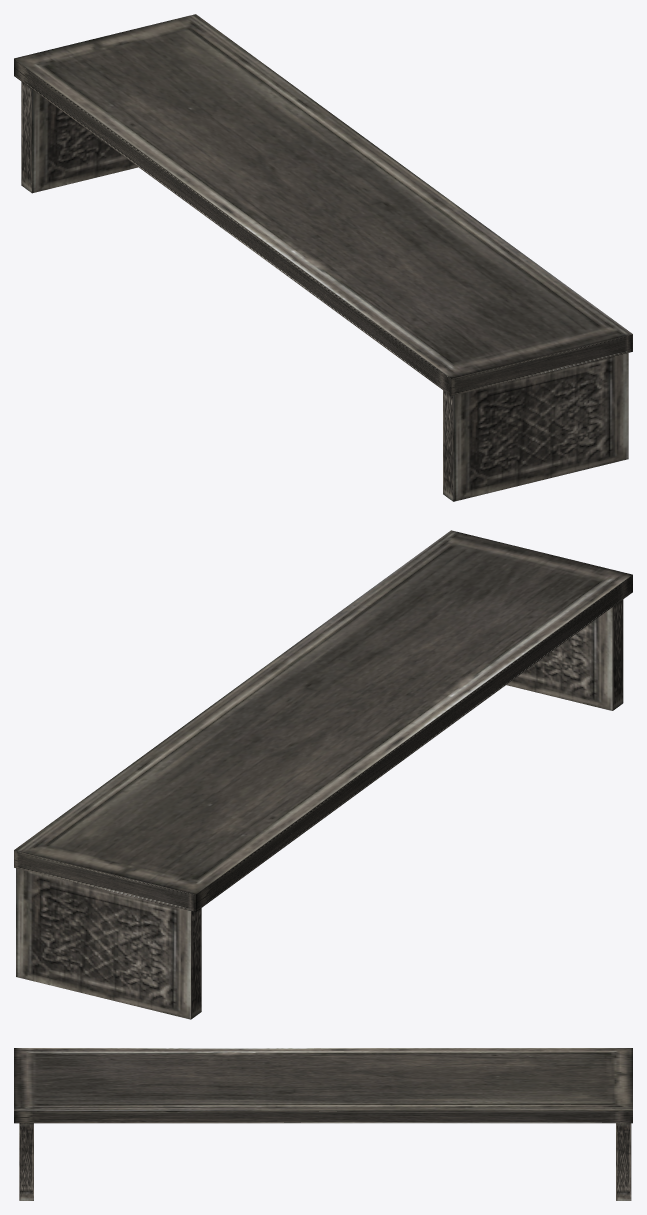
The picture shows the model from 3 angles, top to bottom: view 1: azimuth 30°, elevation 25°; view 2: azimuth 150°, elevation 25°; view 3: azimuth 270°, elevation 25°; orthographic projection. The views are drawn at different scales.
Visible parts, largest first — view 1: Box152; view 2: Box152; view 3: Box152.
Part boxes in pixels (x1,y1,x2,y2): Box152: [14, 14, 632, 501]; Box152: [14, 530, 632, 1019]; Box152: [14, 1048, 632, 1200].
Bounding box in the file's own units: 7.53 × 5.04 × 31.32.
